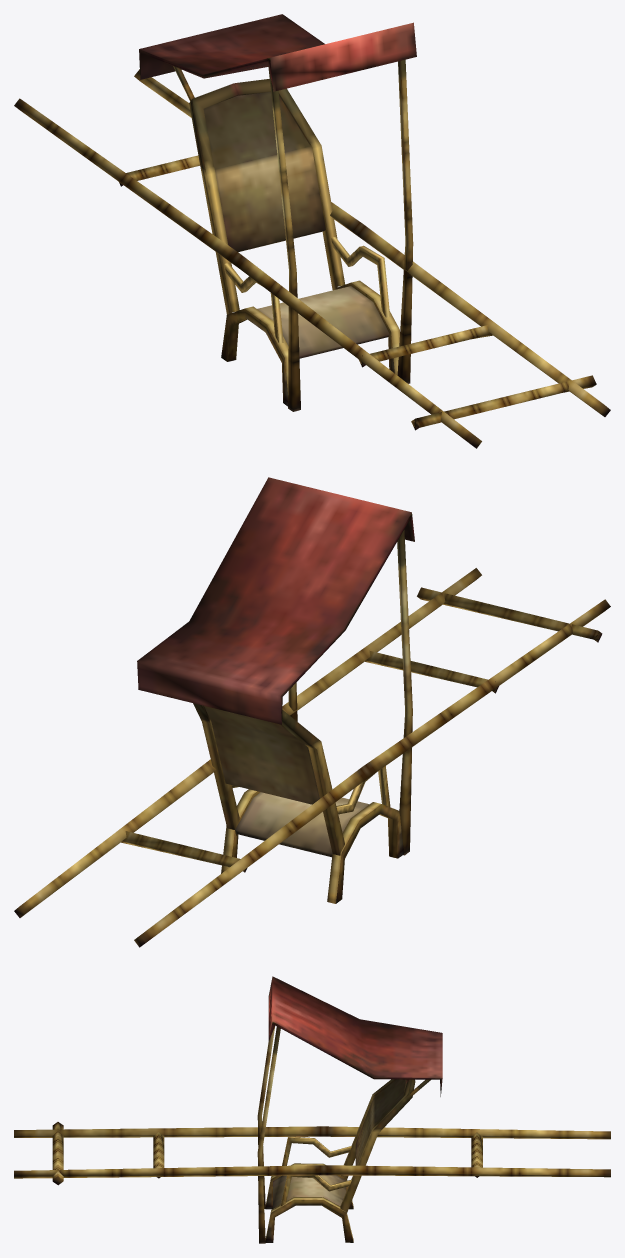
Rendered from b_general_obj_09.glb.
3 renders of one model, top to bottom at view 1: azimuth 30°, elevation 25°; view 2: azimuth 150°, elevation 25°; view 3: azimuth 270°, elevation 25°, orthographic. The views are drawn at different scales.
Visible parts, largest first — view 1: Object05; view 2: Object05; view 3: Object05.
Boxes of the visible parts, box(x1,y1,x2,y2) form: Object05: box(14, 14, 610, 448); Object05: box(14, 477, 610, 947); Object05: box(14, 976, 610, 1243).
Size of the model in its own units: 1.24 by 2.34 by 5.59.
1 material, 1 textured.
